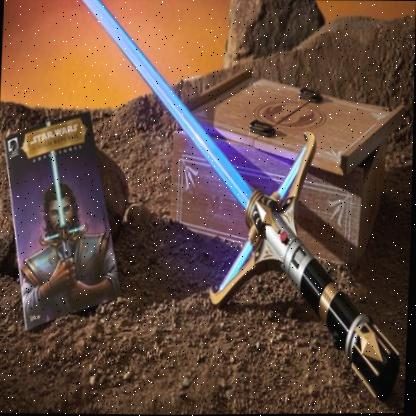lightsaber: (64, 0, 414, 402)
